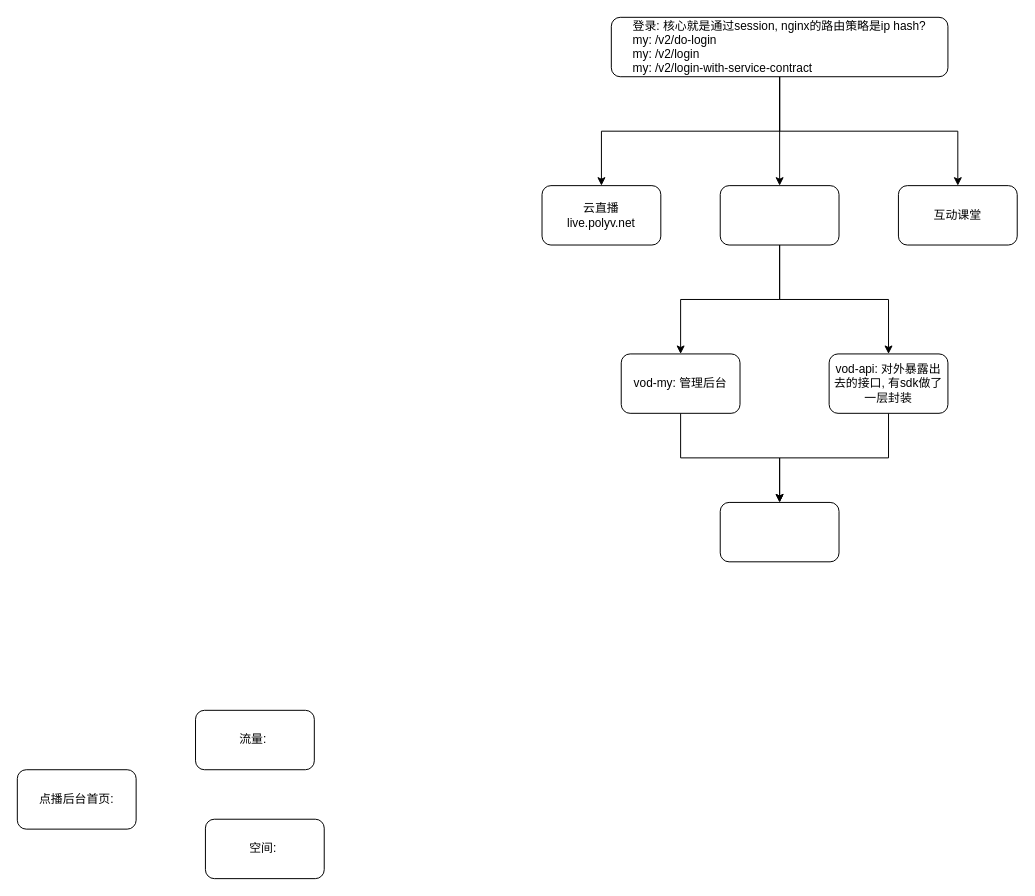
Some shapes in this 1035 by 896 pixel diagram are drawn without their labels. Here are the shapes that lost their labels. From the top down, the centre of each, then its label:
At [779,215]: "云点播 my.polyv.net".
At [779,531]: "vod-core".
